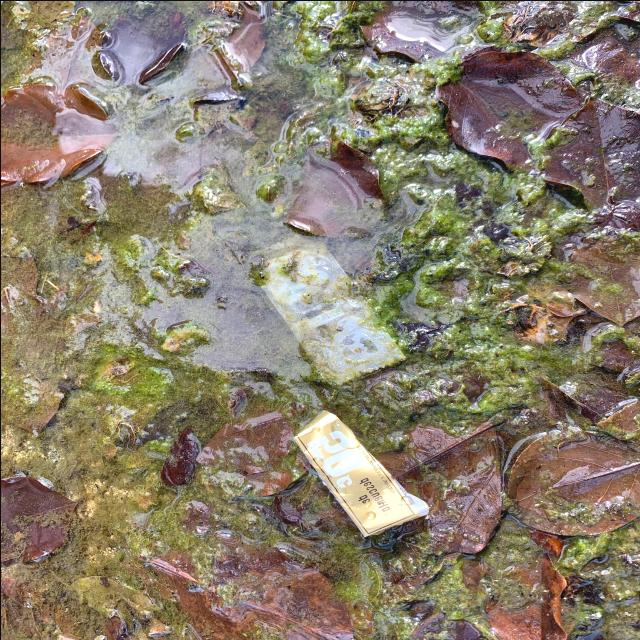Plastic film: (248, 234, 405, 385), (292, 409, 428, 537)
